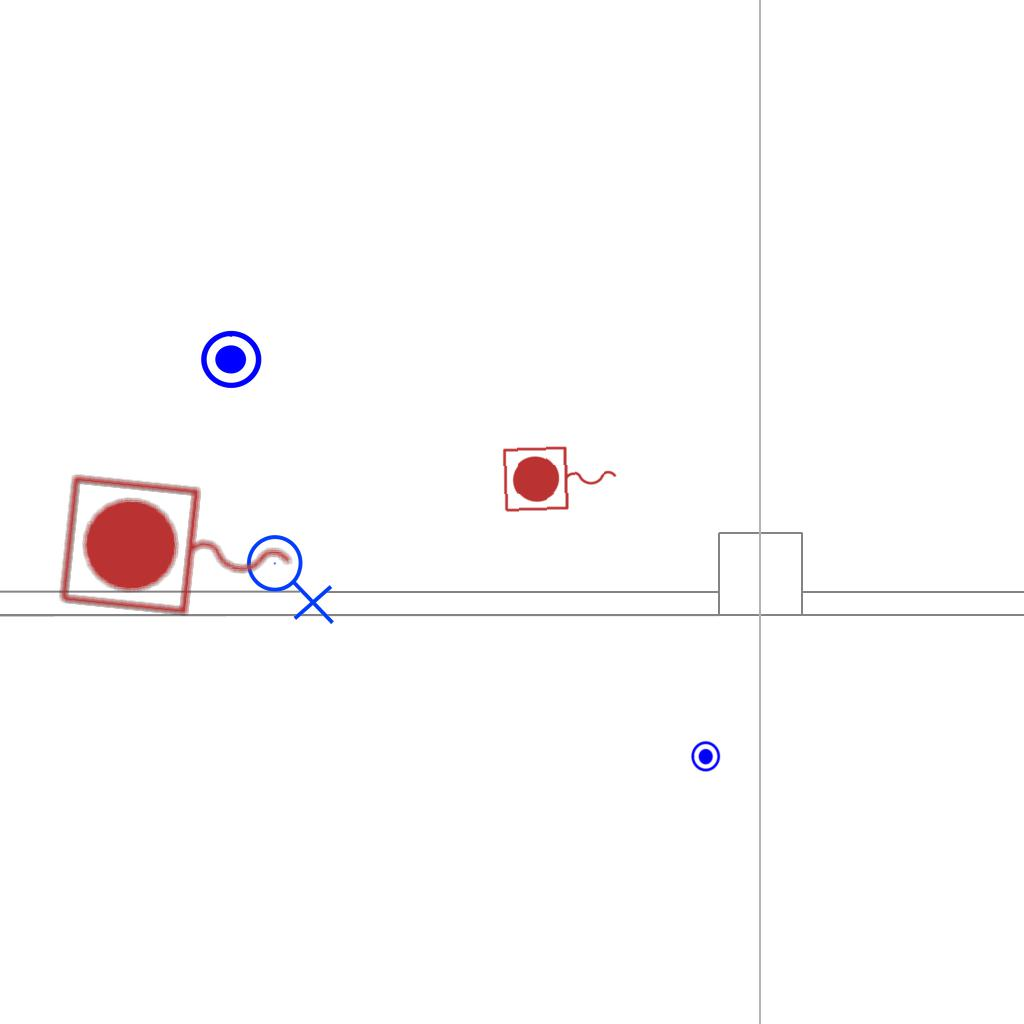Elektroanschluss_allgemein_230V_Geraeteanschlussdose_230V: (245, 526, 339, 625)
Taster: (198, 324, 264, 390), (688, 740, 721, 773)
Zugtaster: (51, 467, 309, 637), (498, 440, 624, 518)
